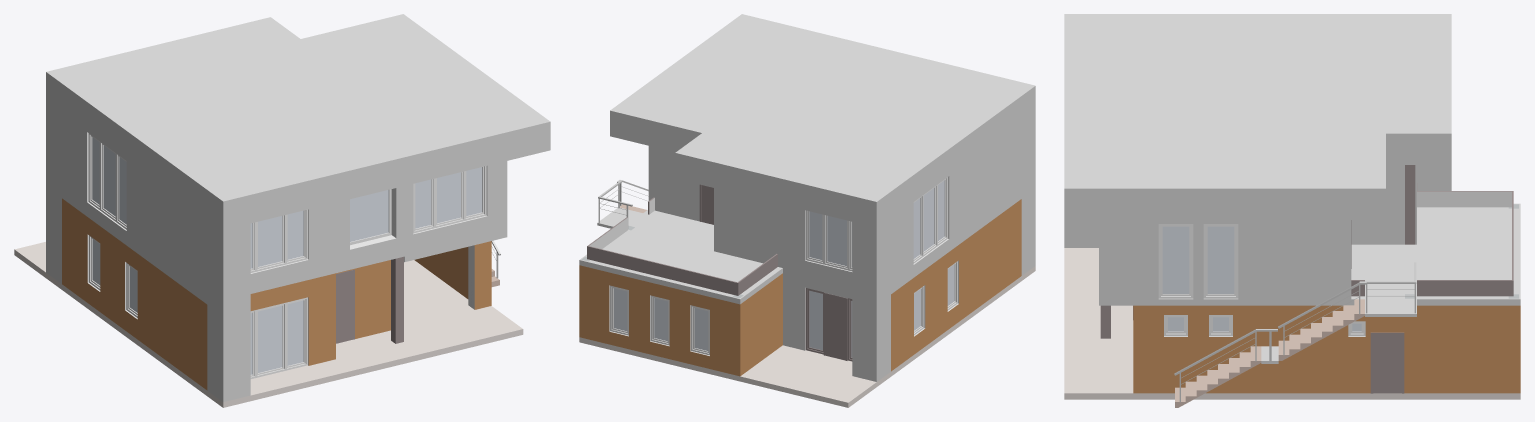
Rendered from House.fbx.
3 renders of one model, left to right at view 1: azimuth 30°, elevation 25°; view 2: azimuth 150°, elevation 25°; view 3: azimuth 270°, elevation 25°, orthographic. The views are drawn at different scales.
Parts seen in each view (by area): view 1: проект; view 2: проект; view 3: проект.
Part boxes in pixels (x1=…): проект: x1=14, y1=14, x2=550, y2=407; проект: x1=579, y1=14, x2=1035, y2=407; проект: x1=1064, y1=14, x2=1520, y2=407.
Bounding box in the file's own units: 1199 × 720 × 1320.
